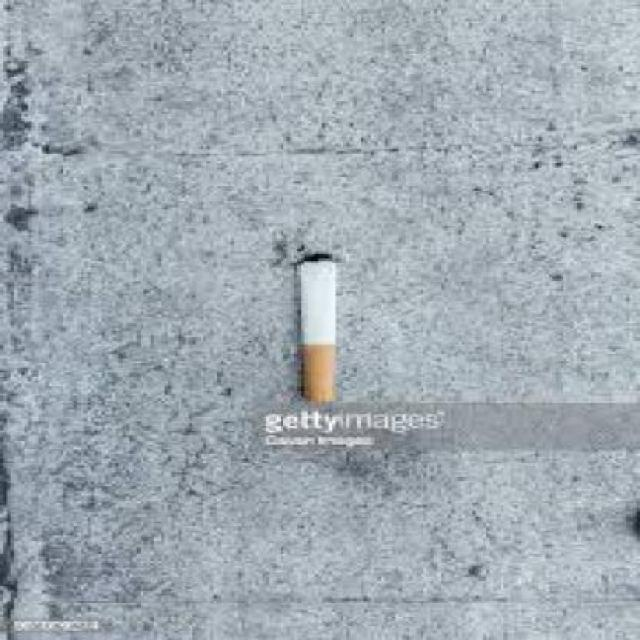cigarette: (279, 238, 392, 410)
